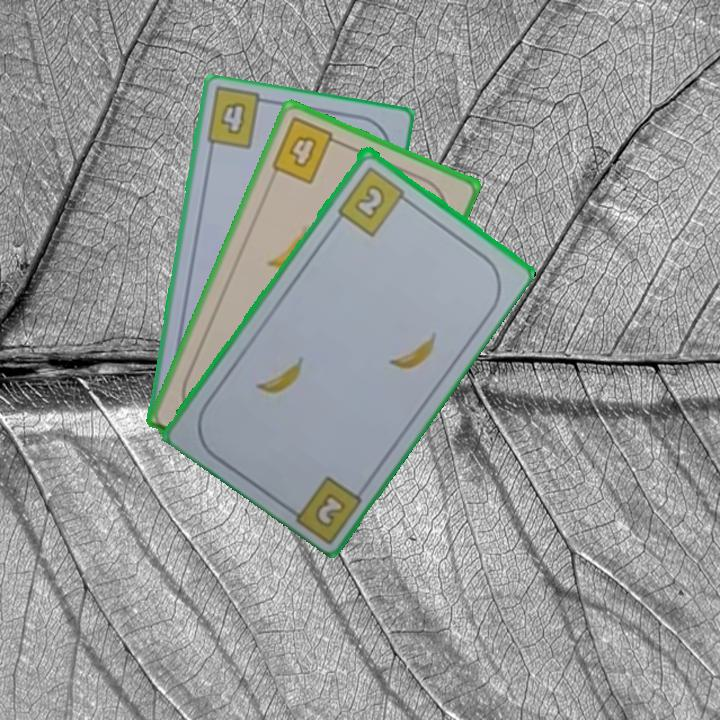2b: (334, 162, 414, 239), (310, 488, 349, 530)
4b: (267, 113, 346, 187), (216, 98, 248, 137)
